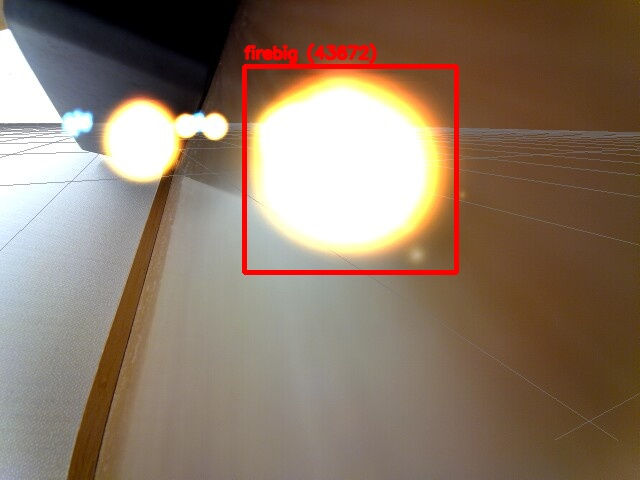firebig: (244, 66, 456, 272)
